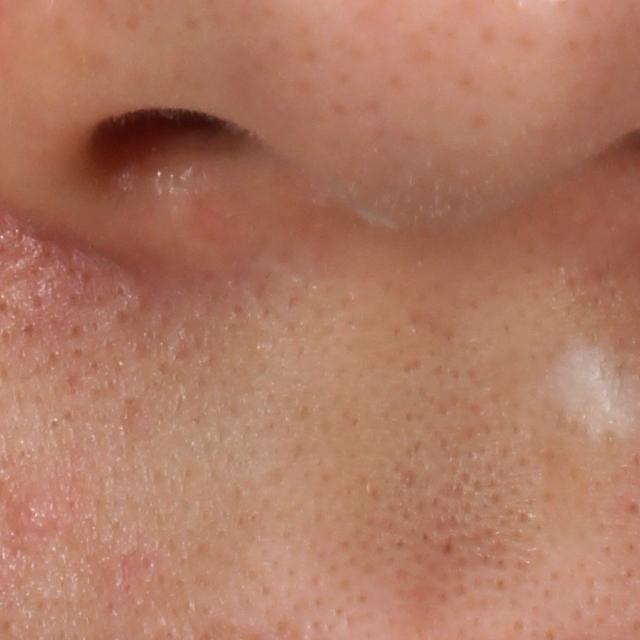papule: (6, 493, 55, 539)
